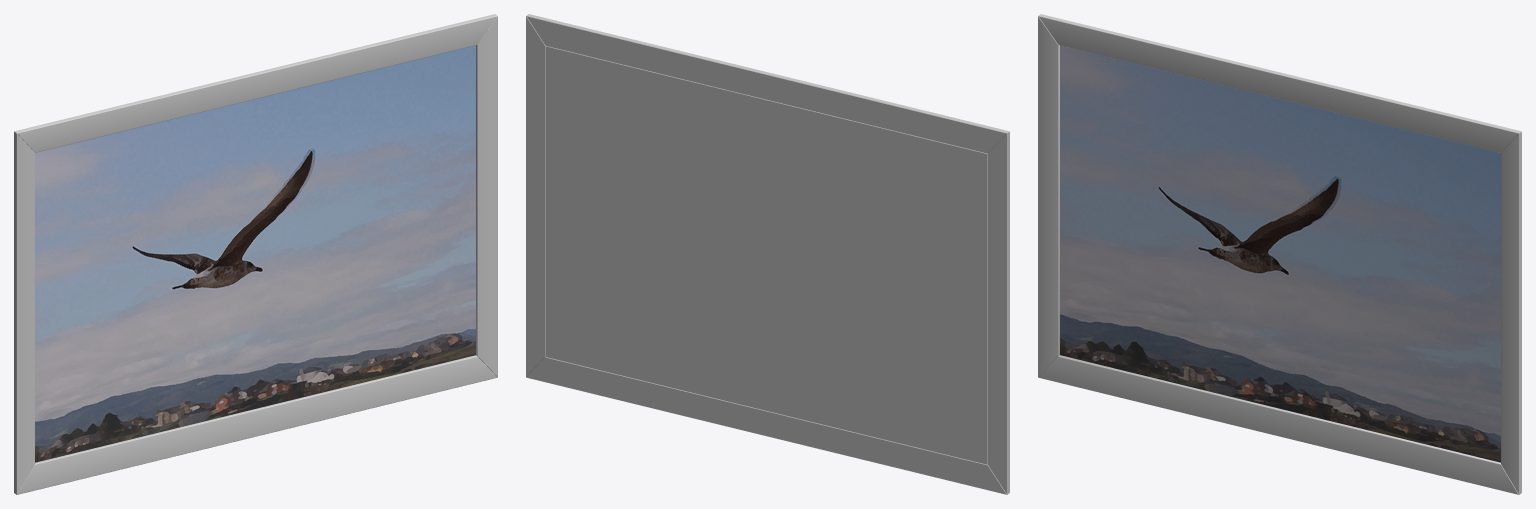
The model's file is picture3.FBX.
3 views of the same model, side by side, from view 1: azimuth 30°, elevation 25°; view 2: azimuth 150°, elevation 25°; view 3: azimuth 330°, elevation 25° (orthographic).
Visible parts, largest first — view 1: picture 3; view 2: picture 3; view 3: picture 3.
Boxes of the visible parts, box(x1,y1,x2,y2) form: picture 3: box(14, 14, 497, 494); picture 3: box(526, 14, 1009, 494); picture 3: box(1038, 14, 1521, 494).
Bounding box in the file's own units: 48.48 × 0.4968 × 34.84.
